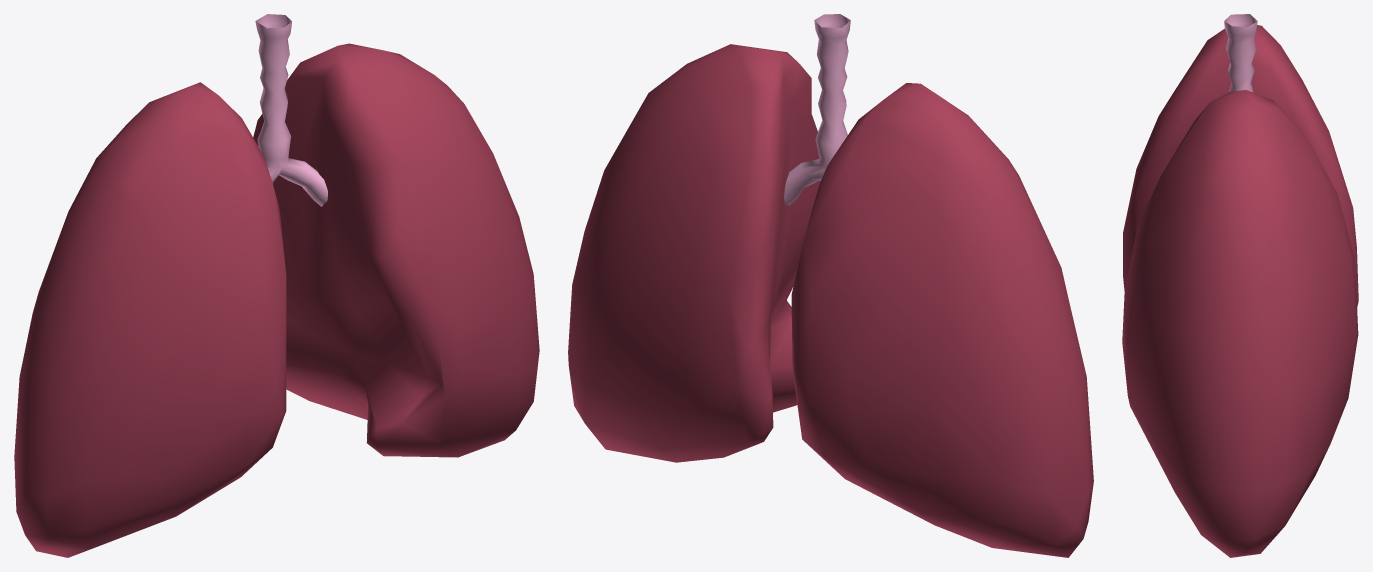
The model's file is Lungs.fbx.
The picture shows the model from 3 angles, left to right: view 1: azimuth 30°, elevation 25°; view 2: azimuth 150°, elevation 25°; view 3: azimuth 270°, elevation 25°; orthographic projection. The views are drawn at different scales.
Parts seen in each view (by area): view 1: Cylinder; view 2: Cylinder; view 3: Cylinder.
Part boxes in pixels (x1=…): Cylinder: x1=14, y1=14, x2=539, y2=557; Cylinder: x1=568, y1=14, x2=1093, y2=557; Cylinder: x1=1122, y1=14, x2=1358, y2=557.
Size of the model in its own units: 19.39 by 17.53 by 8.44.
